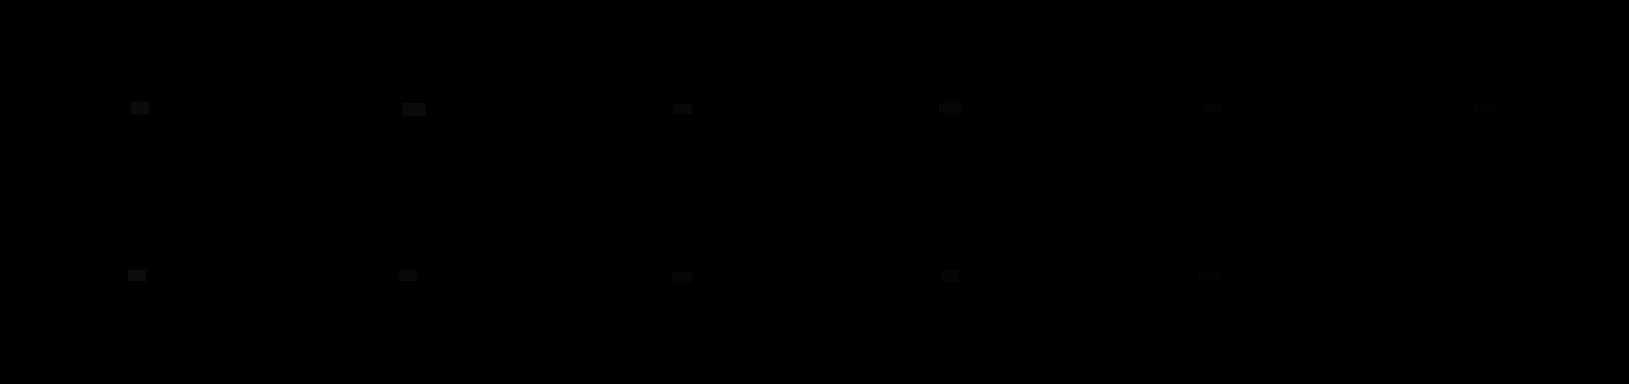light: (402, 103, 426, 116), (1472, 270, 1491, 284), (1198, 270, 1219, 282), (1473, 102, 1494, 113), (939, 103, 962, 113), (941, 270, 959, 282), (131, 102, 149, 114), (128, 270, 146, 281), (1203, 103, 1223, 113), (399, 270, 417, 281), (673, 104, 692, 114), (672, 272, 692, 281)
